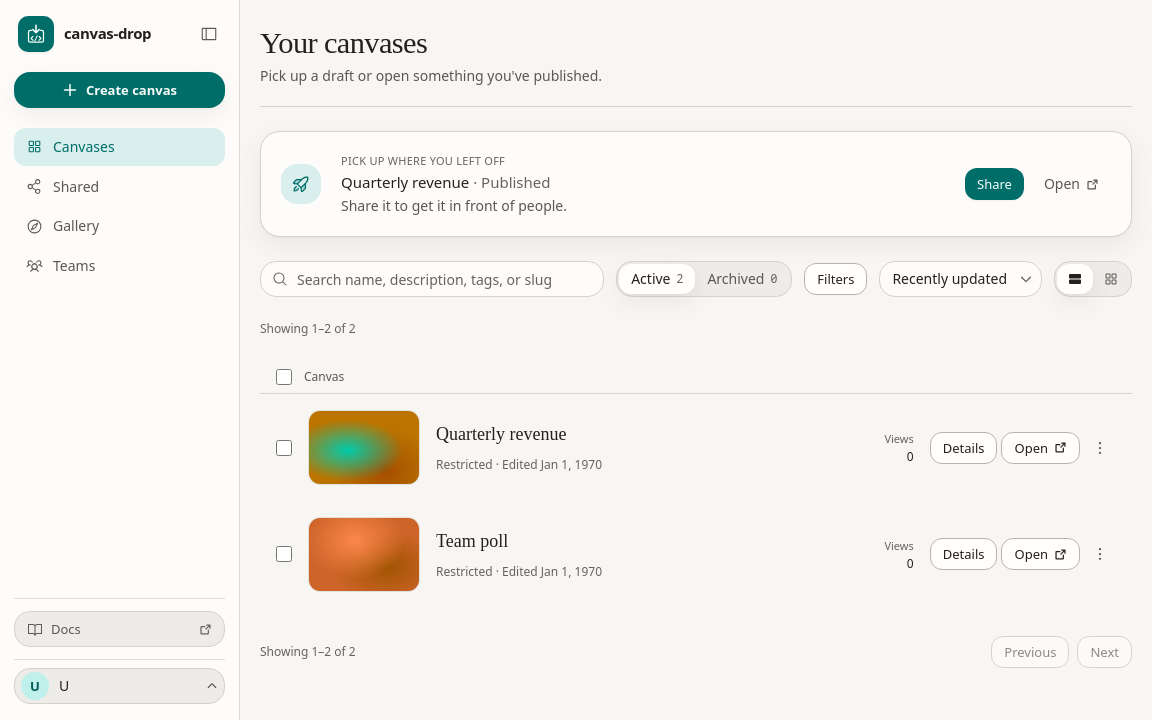
Your canvases — server-side filters (plan 005) › searches by title (debounced into a server request)
Expected: the link "Team poll" is shown, x1=436 y1=531 x2=508 y2=551
In the search field named "Search your canvases": x=432, y=279 x1=260 y1=261 x2=604 y2=297, type "poll"
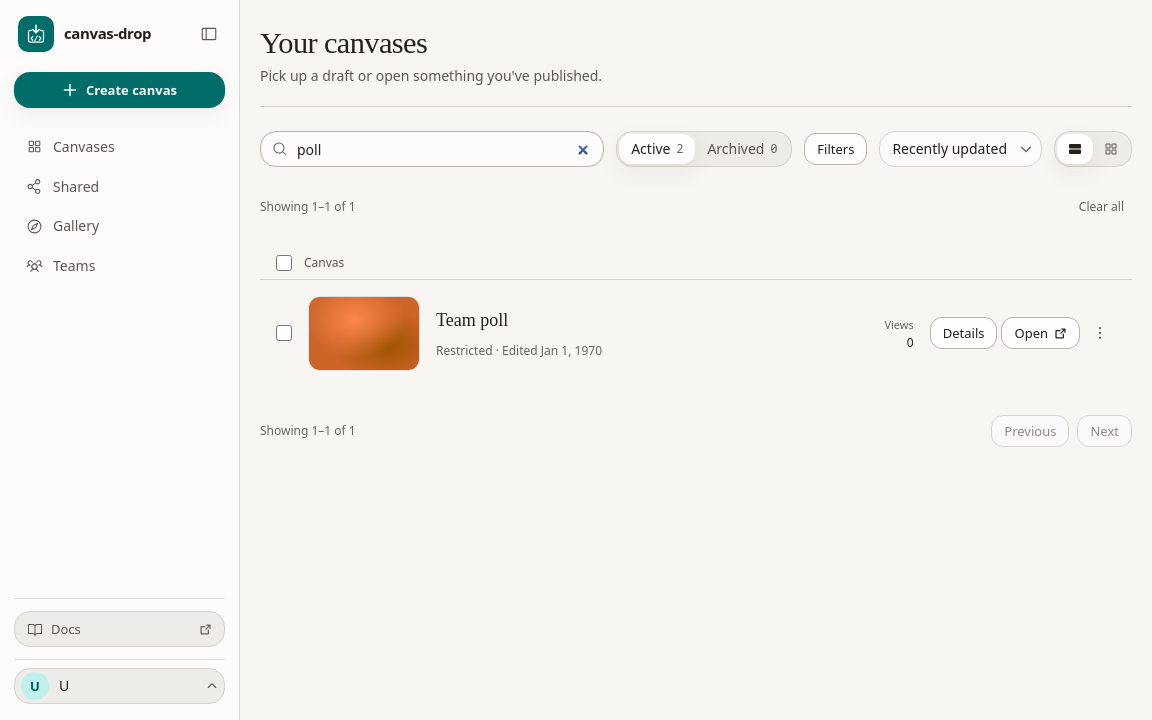
Expected: the link "Team poll" is shown, x1=436 y1=310 x2=508 y2=330
Now the text "Quarterly revenue" is gone
